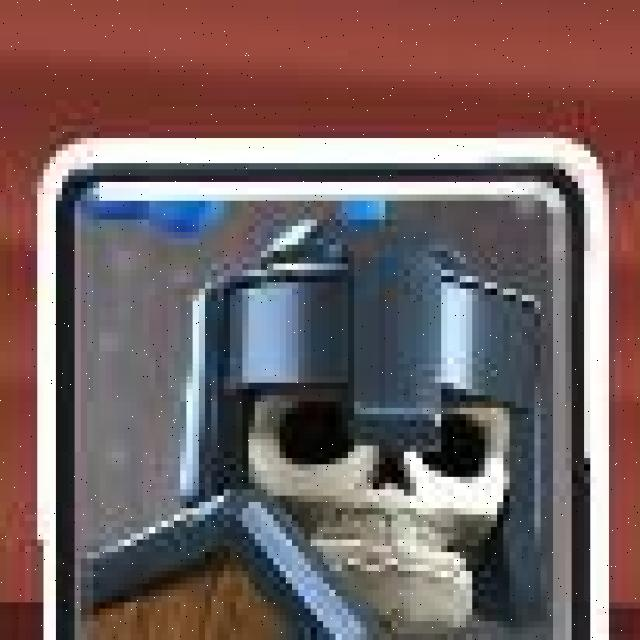Guards: (38, 136, 611, 640)
